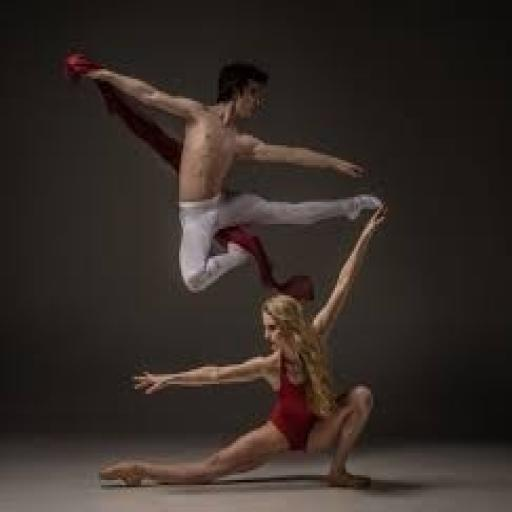dancing: (97, 199, 390, 495), (61, 47, 390, 305)
